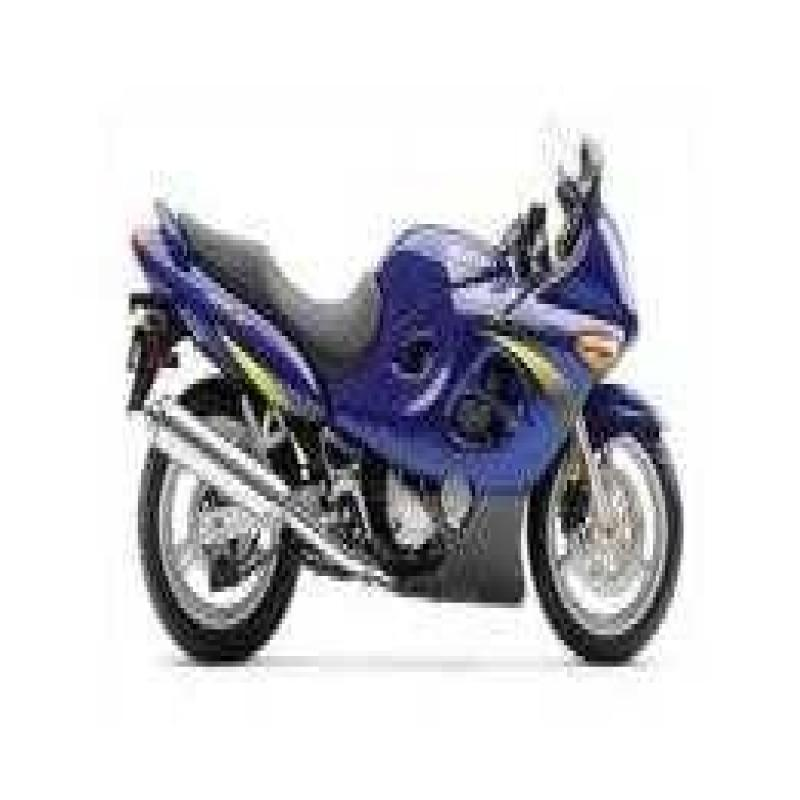bike: (81, 97, 698, 675)
